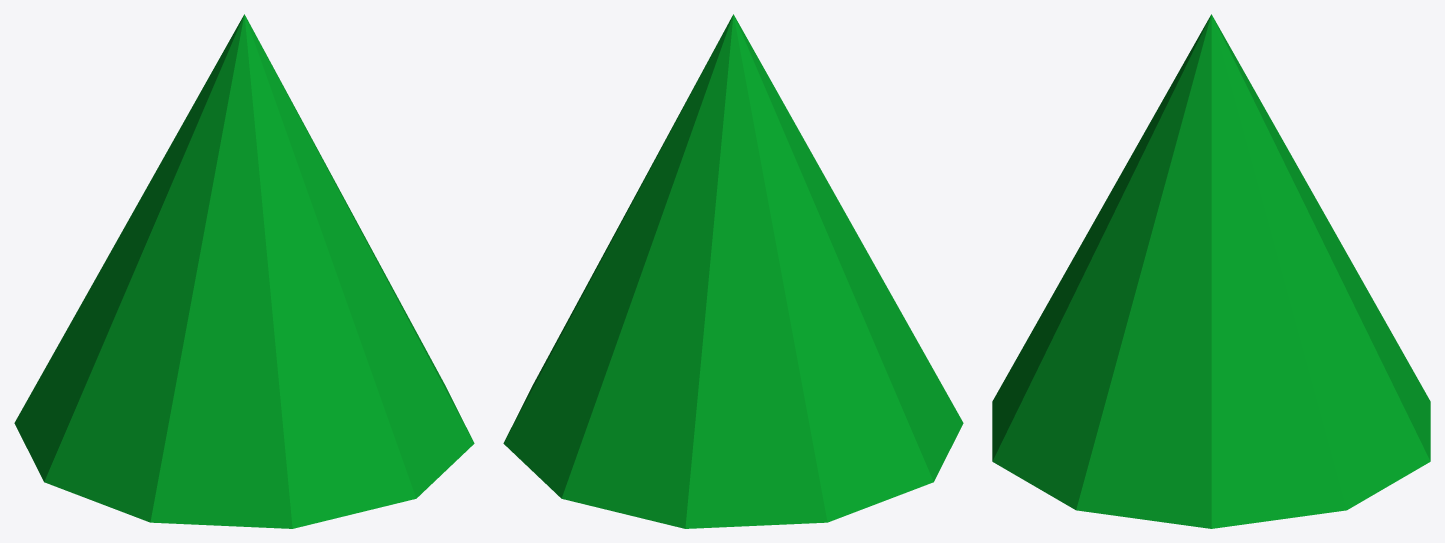
3 views of the same model, side by side, from view 1: azimuth 30°, elevation 25°; view 2: azimuth 150°, elevation 25°; view 3: azimuth 270°, elevation 25° (orthographic).
Visible parts, largest first — view 1: pCone2; view 2: pCone2; view 3: pCone2.
Boxes of the visible parts, bbox=[...] form: pCone2: bbox=[14, 14, 474, 528]; pCone2: bbox=[503, 14, 963, 528]; pCone2: bbox=[992, 14, 1430, 528].
Size of the model in its own units: 2 by 2 by 1.9.
